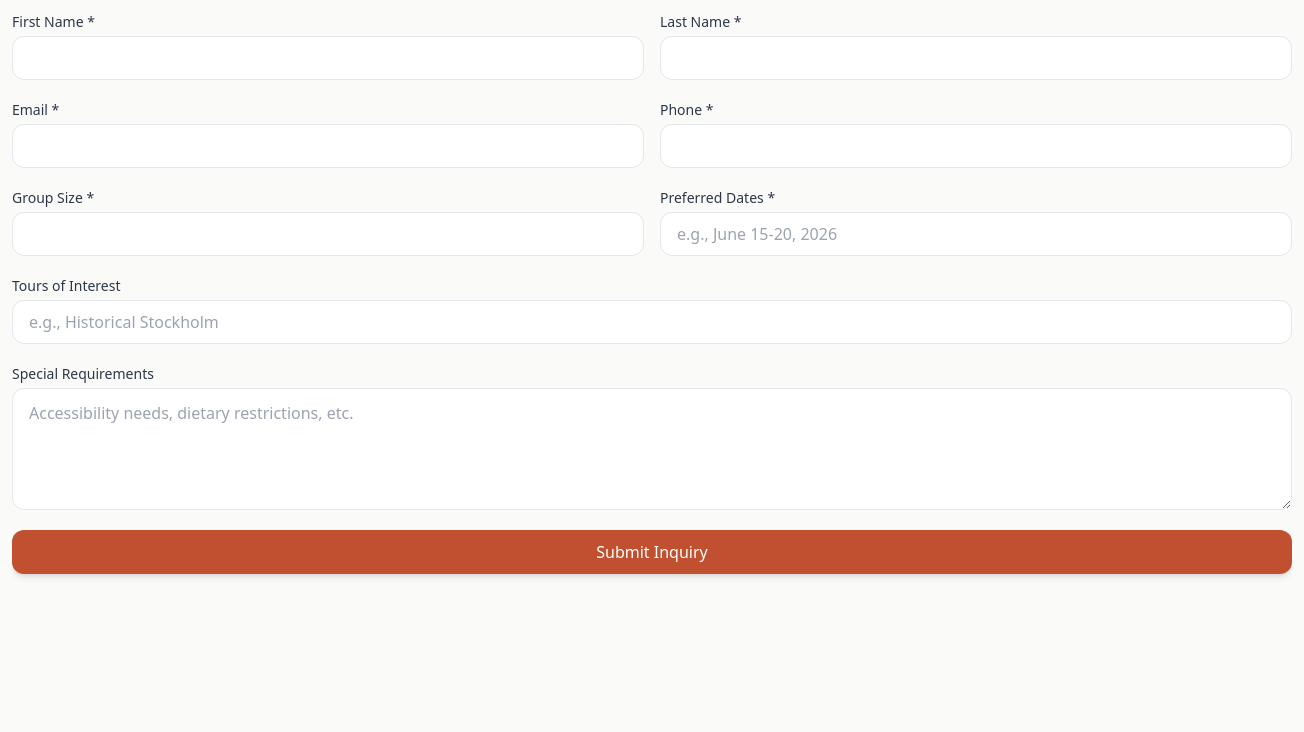
Test case: GroupInquiryForm › disables submit button while loading
The width and height of the screenshot is (1304, 732).
Type "John" into the field labelled "First Name *".
click(328, 58); type("John")  # box top-left (12, 36), bottom-right (644, 80)
Type "Doe" into the field labelled "Last Name *".
click(976, 58); type("Doe")  # box top-left (660, 36), bottom-right (1292, 80)
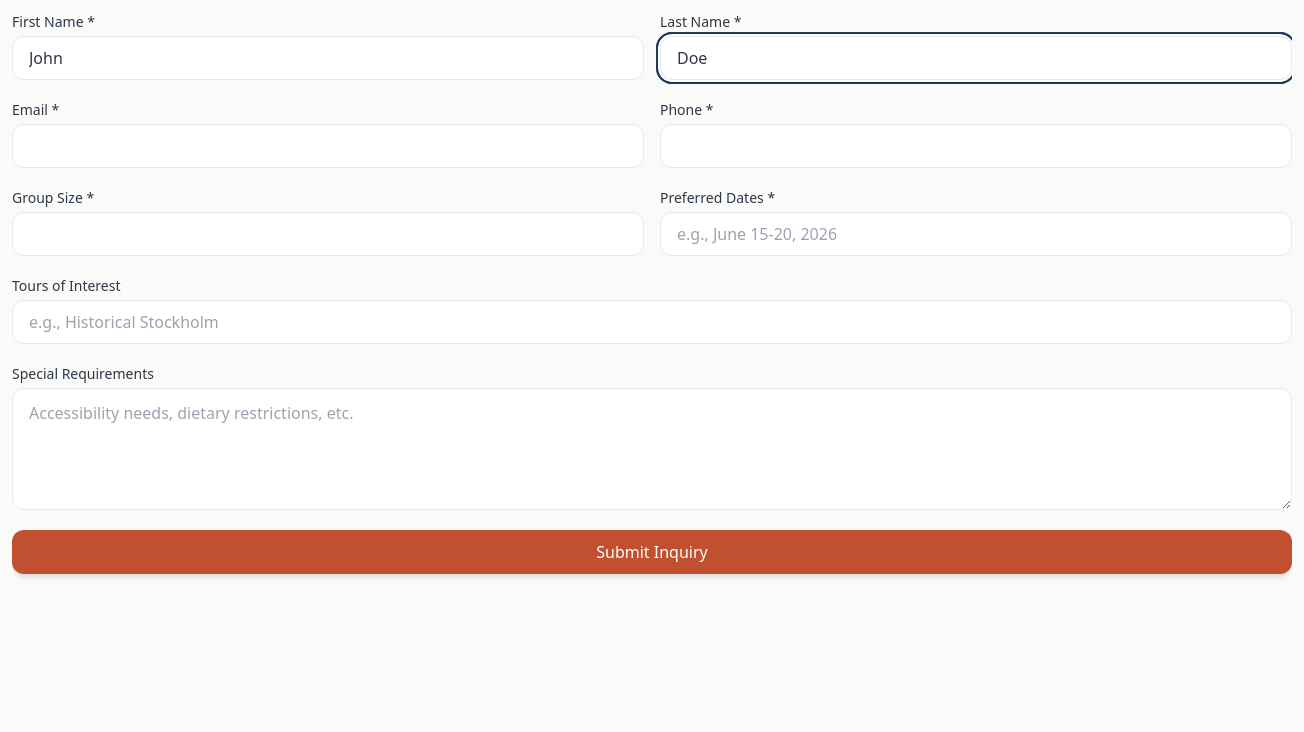
Type "john@example.com" into the field labelled "Email *".
click(328, 146); type("john@example.com")  # box top-left (12, 124), bottom-right (644, 168)
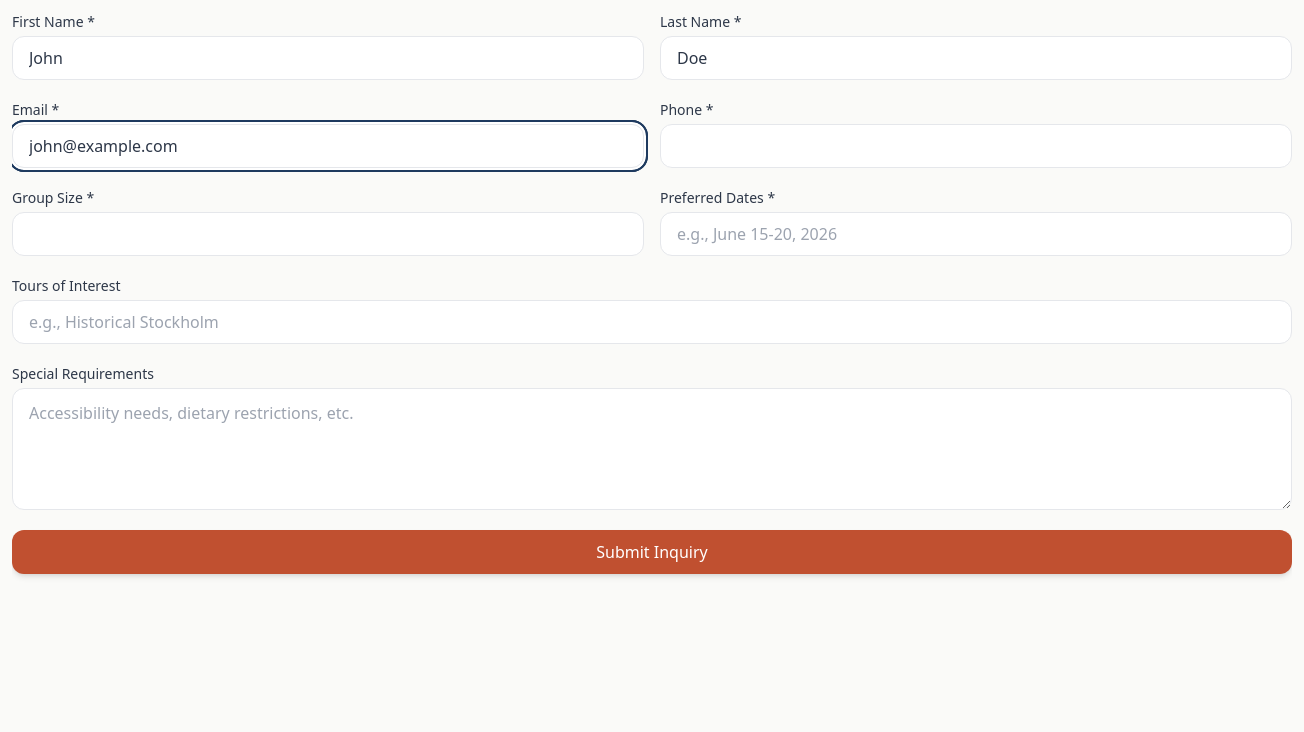
Type "46701234567" into the field labelled "Phone *".
click(976, 146); type("46701234567")  # box top-left (660, 124), bottom-right (1292, 168)
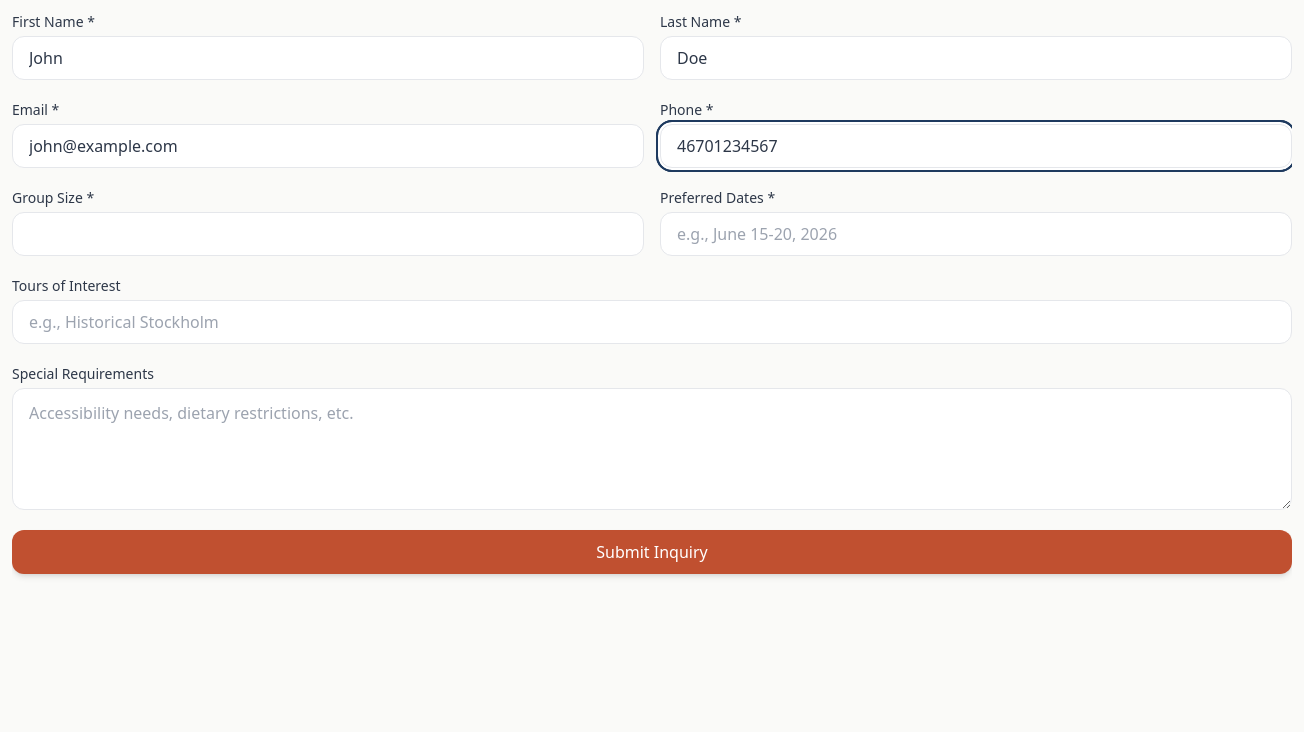
Type "25" into the number field labelled "Group Size *".
click(328, 234); type("25")  # box top-left (12, 212), bottom-right (644, 256)
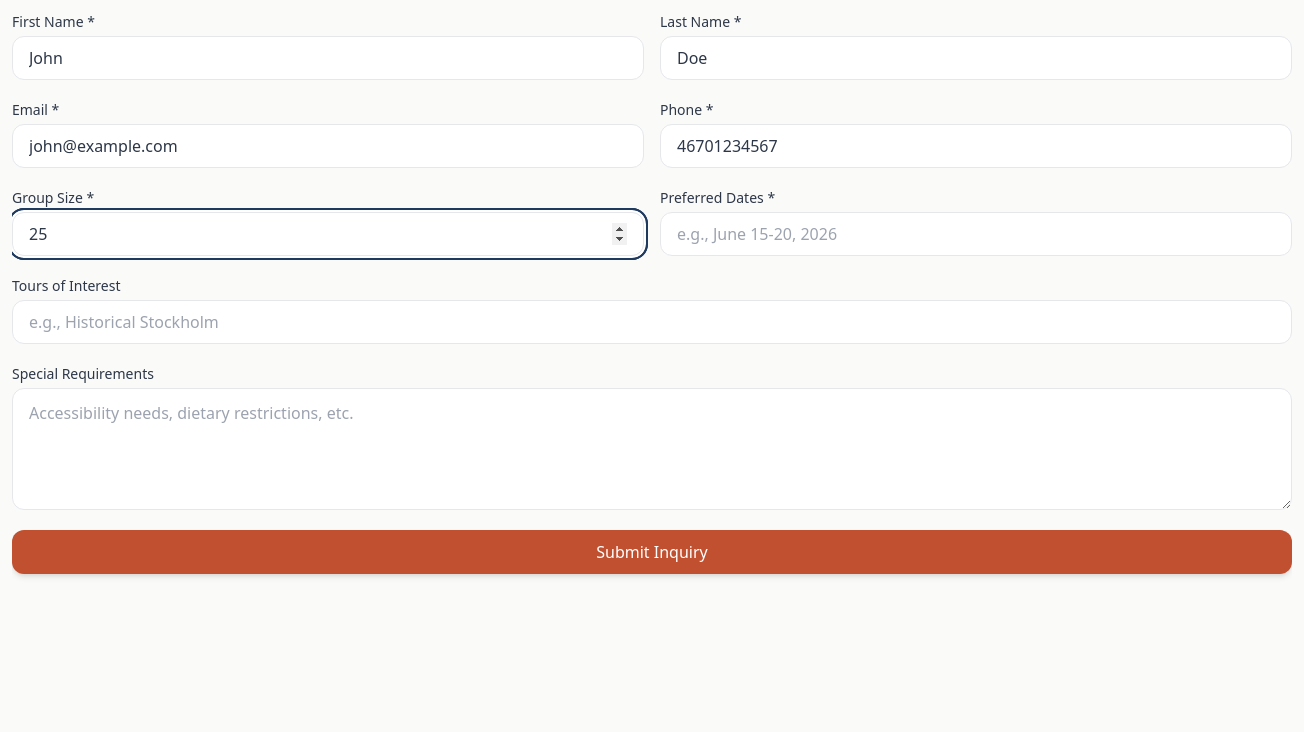
Type "June 15-20, 2026" into the field labelled "Preferred Dates *".
click(976, 234); type("June 15-20, 2026")  # box top-left (660, 212), bottom-right (1292, 256)
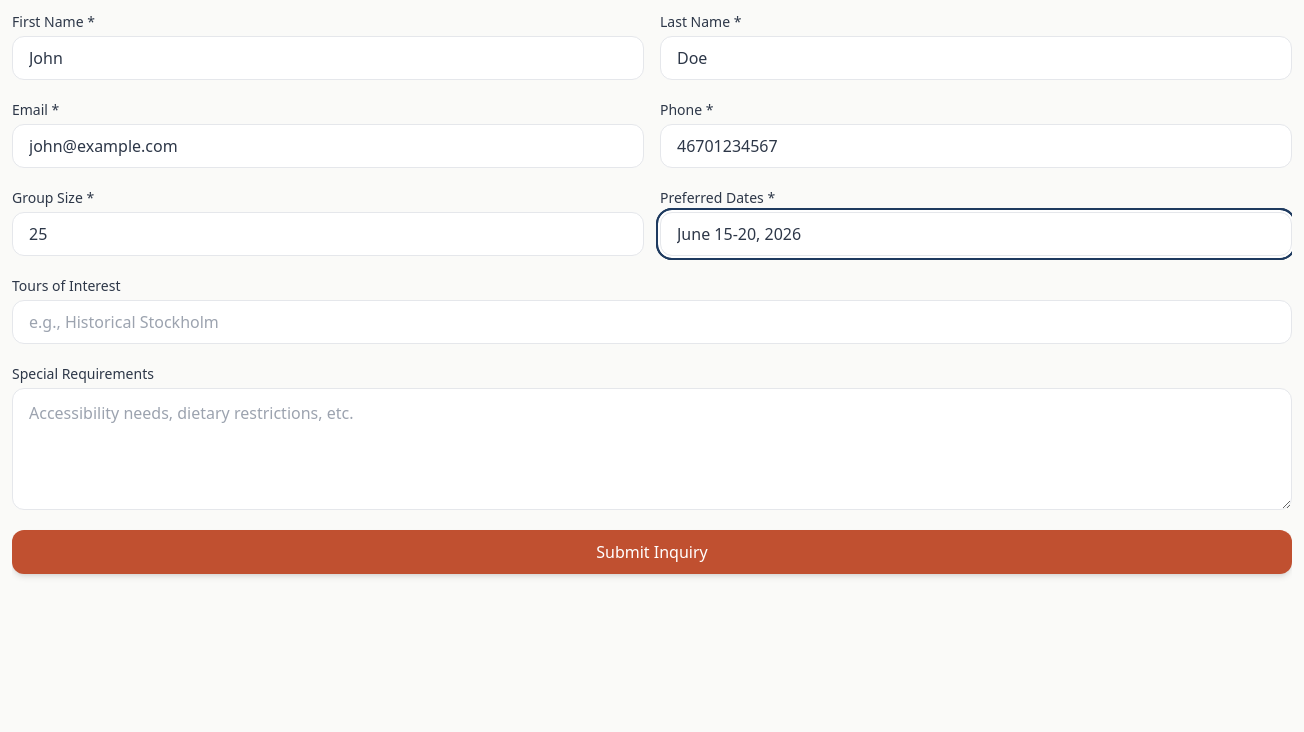
Click the button "Submit Inquiry".
click(652, 552)  # box top-left (12, 530), bottom-right (1292, 574)
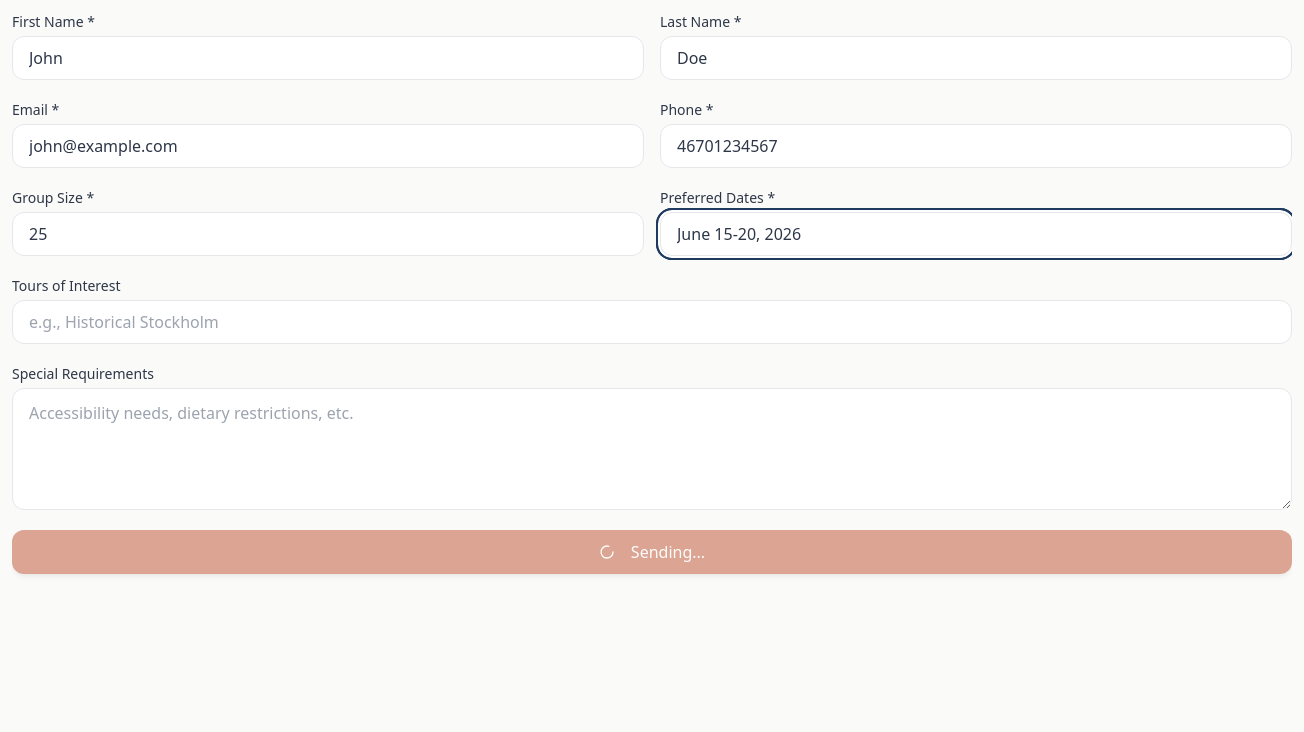
Check: the button is disabled, box top-left (12, 530), bottom-right (1292, 574)
